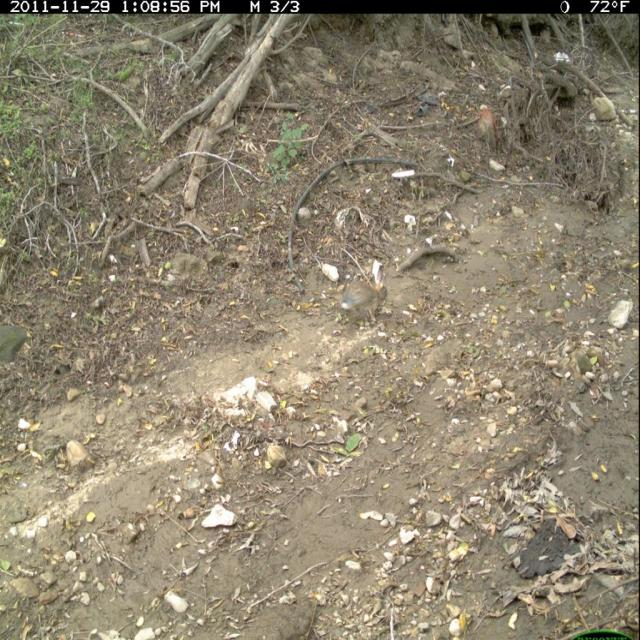rabbit: (340, 261, 390, 328)
